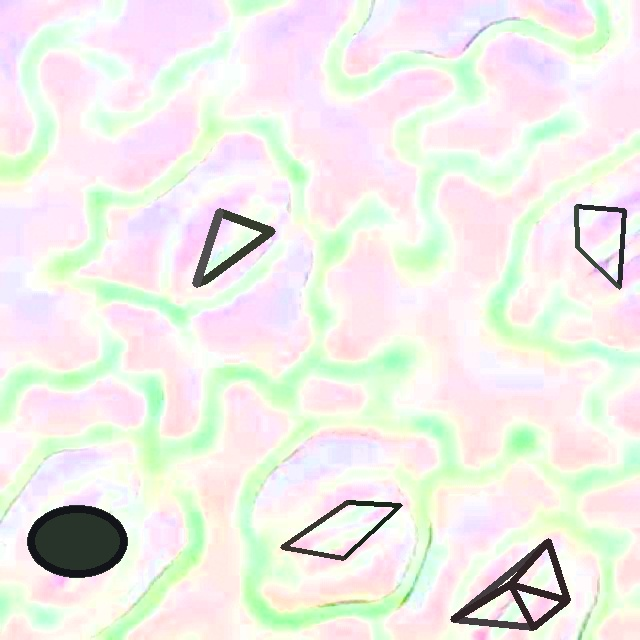open: (450, 538, 570, 630), (280, 500, 402, 559), (27, 505, 127, 576), (192, 208, 275, 283), (575, 204, 626, 289)
